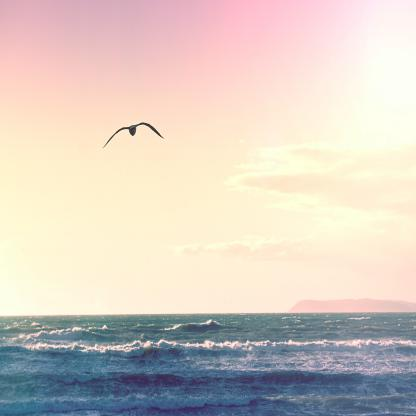bird: (102, 122, 165, 149)
